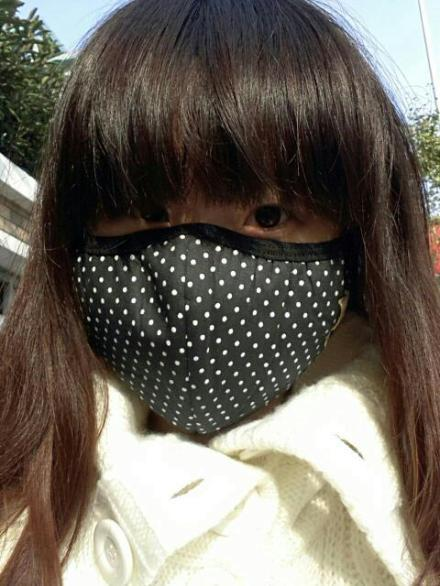OK: (62, 171, 316, 425)
